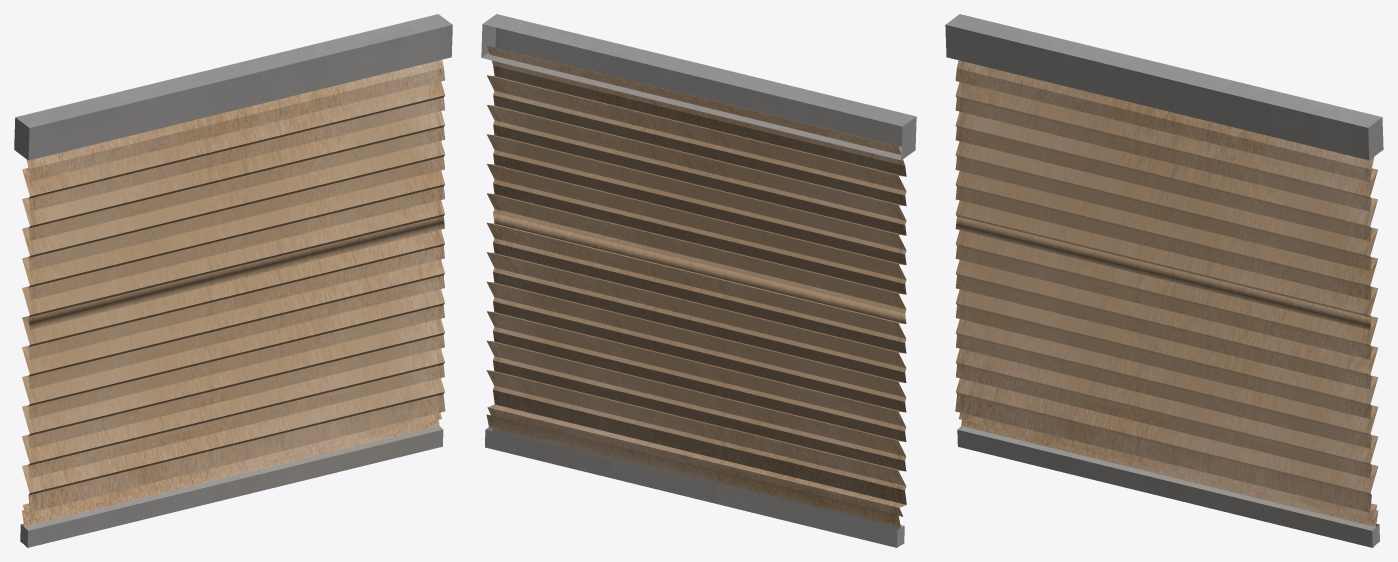
Rendered from Company_blind.fbx.
3 renders of one model, left to right at view 1: azimuth 30°, elevation 25°; view 2: azimuth 150°, elevation 25°; view 3: azimuth 330°, elevation 25°, orthographic.
Visible parts, largest first — view 1: Box210; view 2: Box210; view 3: Box210.
Boxes of the visible parts, left/top/right/bottom form: Box210: left=14, top=14, right=452, bottom=547; Box210: left=481, top=14, right=916, bottom=547; Box210: left=945, top=14, right=1383, bottom=547.
Bounding box in the file's own units: 1.64 × 1.58 × 0.1035.
1 material, 1 textured.
